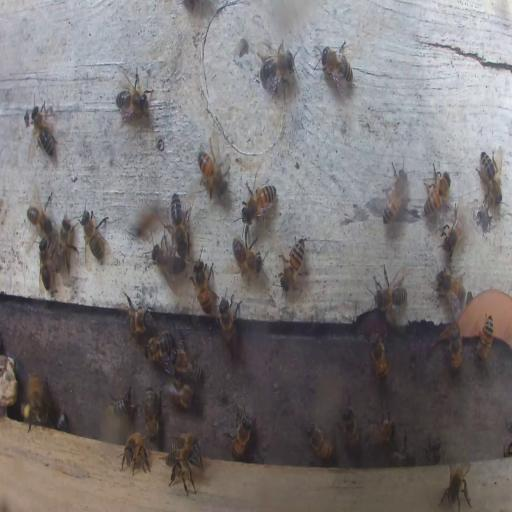nonpollenbee: (257, 41, 297, 97), (317, 40, 354, 97), (78, 204, 110, 264), (196, 145, 228, 203), (28, 97, 56, 160), (440, 459, 473, 511), (224, 404, 254, 460), (422, 162, 451, 218), (373, 268, 408, 314), (114, 73, 148, 120), (381, 163, 407, 224), (477, 148, 502, 210), (242, 180, 277, 224), (218, 290, 240, 358), (280, 236, 307, 291), (191, 252, 215, 313), (55, 216, 79, 275), (119, 432, 151, 476), (120, 296, 152, 338), (439, 208, 465, 258), (364, 407, 394, 449), (232, 234, 262, 276), (306, 421, 334, 464), (152, 240, 182, 280), (338, 403, 361, 455), (170, 194, 189, 256), (172, 342, 202, 380), (165, 376, 194, 412), (368, 331, 388, 383), (435, 269, 466, 302), (26, 200, 53, 236), (388, 434, 418, 466), (168, 434, 202, 462), (144, 386, 161, 442), (169, 457, 196, 492), (145, 328, 173, 361), (475, 314, 494, 361), (109, 388, 138, 418), (0, 363, 18, 406), (446, 326, 462, 373), (39, 238, 52, 294), (426, 435, 442, 463), (56, 410, 68, 430)
pollenbee: (29, 366, 44, 416), (24, 402, 42, 425)
